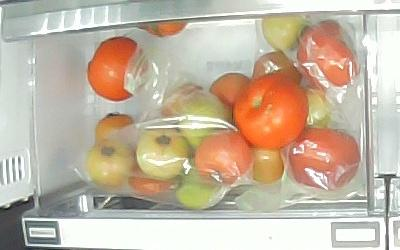tomato: (233, 77, 308, 148), (86, 37, 146, 102), (261, 16, 307, 50)
tomato_vinyl: (286, 127, 361, 191), (298, 22, 361, 86), (193, 132, 251, 184), (137, 126, 192, 179), (176, 92, 230, 142), (173, 169, 228, 211), (87, 143, 134, 188), (208, 69, 253, 111), (253, 50, 302, 78), (250, 146, 284, 183), (94, 112, 134, 142), (306, 90, 331, 128)
